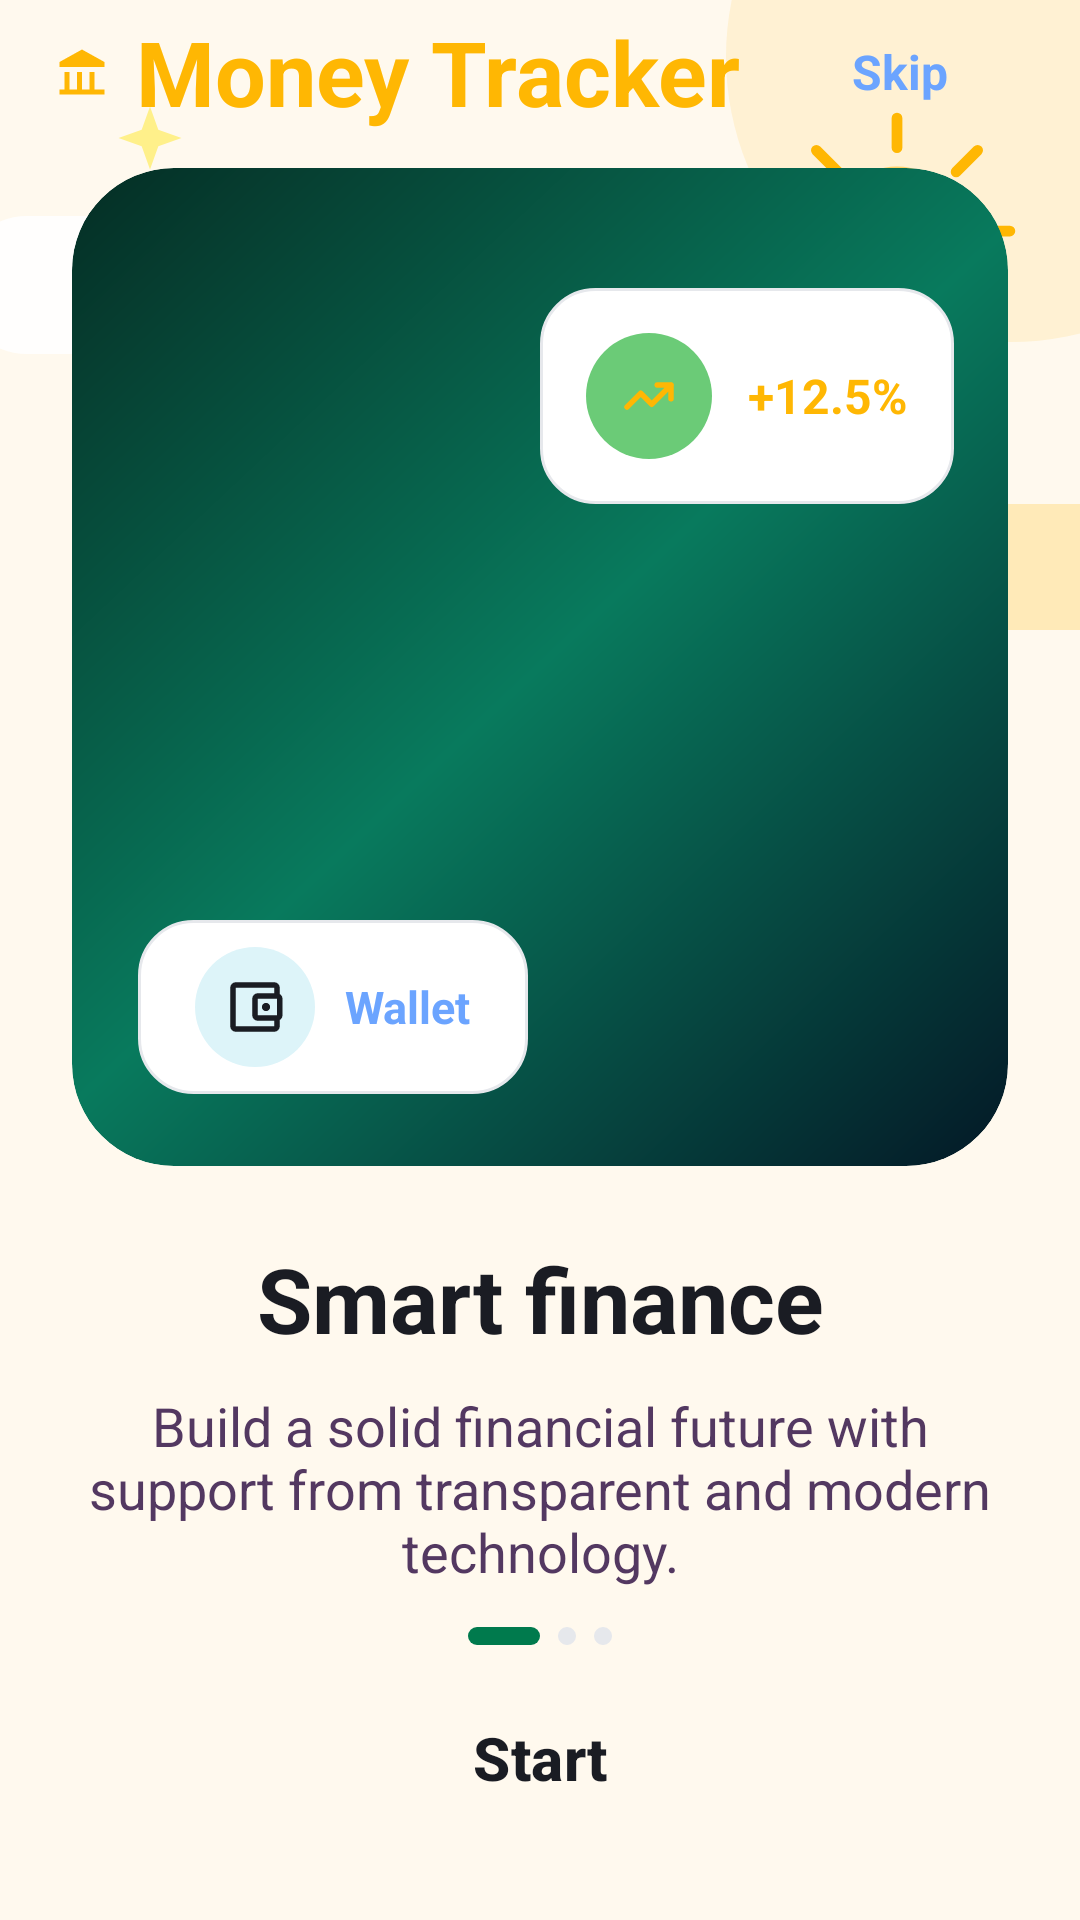

Where to tap for icons on this 1080*1920 app screen, as (x,y):
trending up: (649,396)
